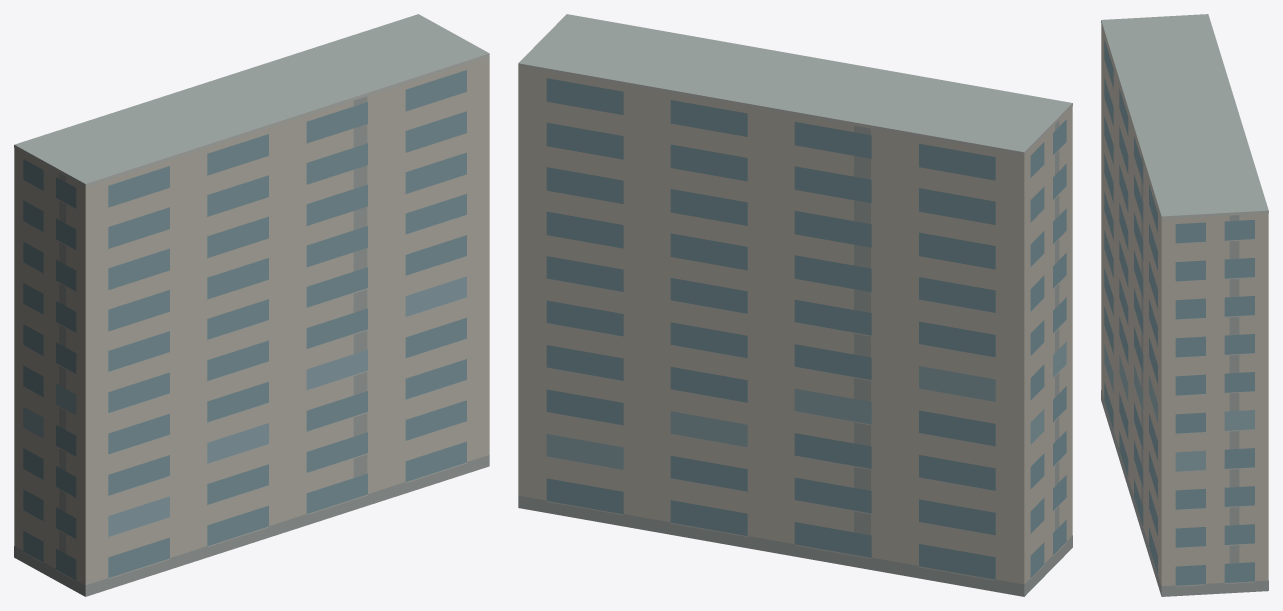
File: residential-6f372117-f878-45db-b52f-e73715c11d5e.glb
3 renders of one model, left to right at view 1: azimuth 30°, elevation 25°; view 2: azimuth 150°, elevation 25°; view 3: azimuth 270°, elevation 25°, orthographic. The views are drawn at different scales.
Parts seen in each view (by area): view 1: residential-6f372117-f878-45db-b52f-e73715c11d5e.tmp; view 2: residential-6f372117-f878-45db-b52f-e73715c11d5e.tmp; view 3: residential-6f372117-f878-45db-b52f-e73715c11d5e.tmp.
Boxes of the visible parts, box(x1,y1,x2,y2) form: residential-6f372117-f878-45db-b52f-e73715c11d5e.tmp: box(14, 14, 489, 596); residential-6f372117-f878-45db-b52f-e73715c11d5e.tmp: box(518, 14, 1072, 596); residential-6f372117-f878-45db-b52f-e73715c11d5e.tmp: box(1101, 14, 1268, 596).
Size of the model in its own units: 36.52 by 32 by 12.79.
